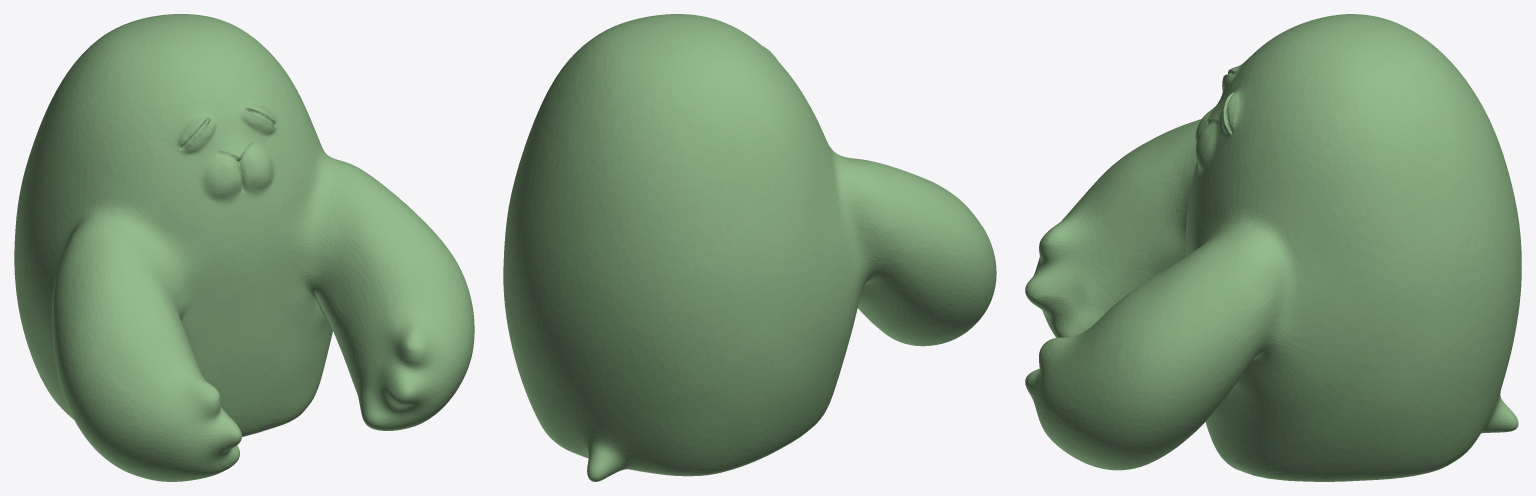
Rendered from otete_resize.glb.
3 renders of one model, left to right at view 1: azimuth 30°, elevation 25°; view 2: azimuth 150°, elevation 25°; view 3: azimuth 270°, elevation 25°, orthographic. The views are drawn at different scales.
Visible parts, largest first — view 1: otete_l.002; view 2: otete_l.002; view 3: otete_l.002.
Part boxes in pixels (<box>): otete_l.002: <box>14,14,474,481</box>; otete_l.002: <box>503,14,996,481</box>; otete_l.002: <box>1025,14,1521,481</box>.
Size of the model in its own units: 2.28 by 2.07 by 2.29.
